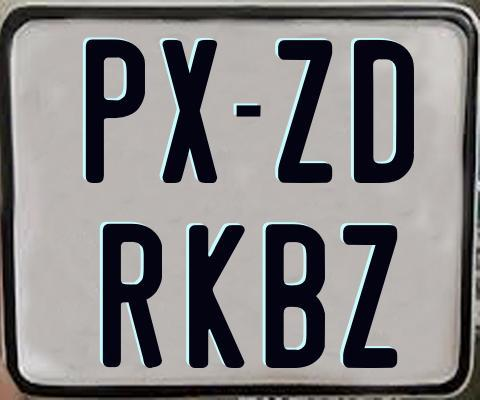B: (264, 221, 328, 371)
D: (351, 38, 417, 187)
K: (189, 223, 246, 369)
P: (84, 39, 147, 189)
R: (100, 224, 164, 368)
X: (163, 37, 221, 182)
Z: (341, 223, 400, 367), (277, 40, 334, 189)
